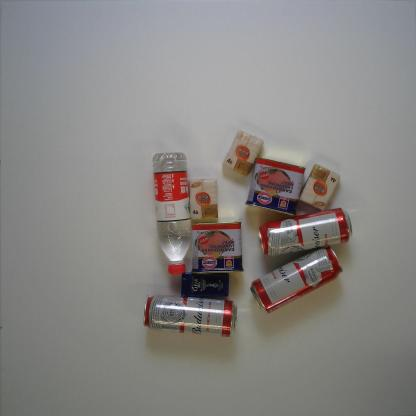Alcohol: (250, 246, 344, 314), (257, 207, 353, 257), (143, 294, 238, 338)
Canned Food: (245, 156, 306, 217), (191, 220, 245, 274)
Drink: (152, 151, 193, 275)
Personal Hygiene: (181, 272, 229, 298)
Tissue: (298, 164, 340, 212), (222, 129, 264, 176), (188, 178, 219, 220)
